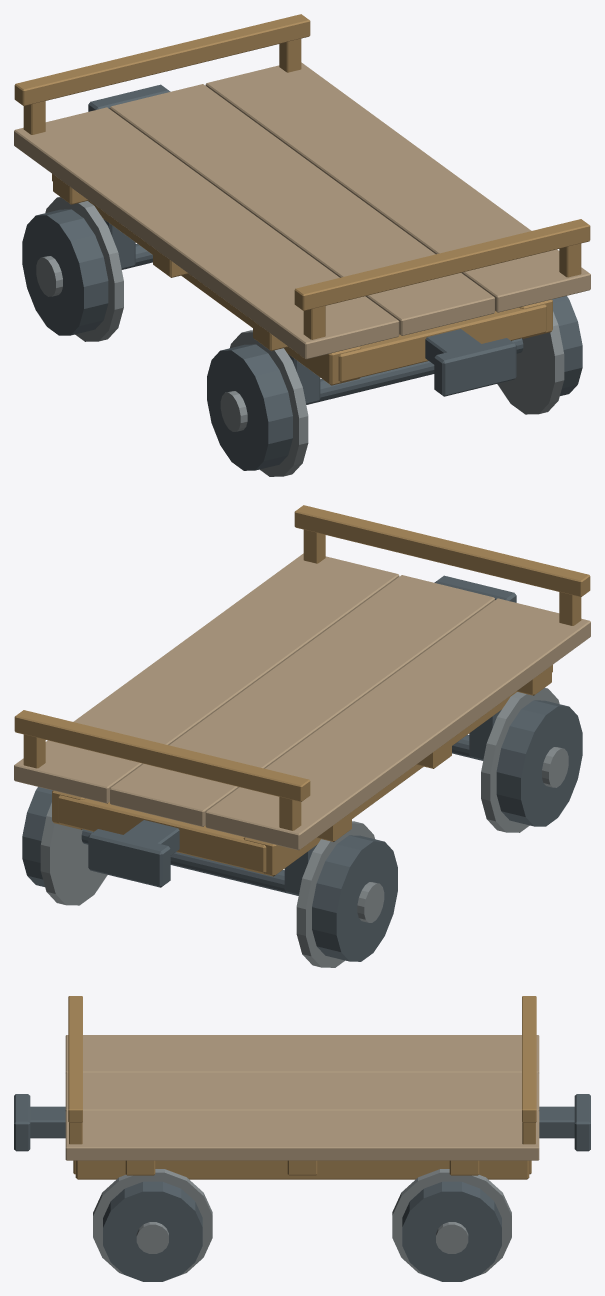
3 views of the same model, one above another, from view 1: azimuth 30°, elevation 25°; view 2: azimuth 150°, elevation 25°; view 3: azimuth 270°, elevation 25° (orthographic). The views are drawn at different scales.
Visible parts, largest first — view 1: Open freight deck plank, Open freight deck plank.001, Open freight deck plank.002, Flat steel tread.002, Flat steel tread, Low end restraint rail, Low end restraint rail.001, End underframe tie, Inner flange.001, Fixed coupling face, Inner flange.002, Inner flange (+13 smaller); view 2: Open freight deck plank, Open freight deck plank.001, Open freight deck plank.002, Flat steel tread, Flat steel tread.002, Low end restraint rail.001, Low end restraint rail, End underframe tie.001, Inner flange.003, Fixed coupling face.001, Inner flange, Inner flange.002 (+13 smaller); view 3: Open freight deck plank.002, Open freight deck plank.001, Open freight deck plank, Flat steel tread.001, Flat steel tread.003, Longitudinal underframe.001, Inner flange.001, Inner flange.003, Low end restraint rail, Low end restraint rail.001, Static coupling shank, Static coupling shank.001 (+7 smaller).
Boxes of the visible parts, box(x1,y1,x2,y2) form: Open freight deck plank: box(14, 107, 399, 359); Open freight deck plank.001: box(110, 84, 494, 335); Open freight deck plank.002: box(205, 62, 590, 312); Flat steel tread.002: box(22, 209, 108, 335); Flat steel tread: box(207, 344, 292, 470); Low end restraint rail: box(294, 219, 590, 310); Low end restraint rail.001: box(14, 14, 310, 105); End underframe tie: box(338, 304, 546, 382); Inner flange.001: box(497, 311, 564, 414); Fixed coupling face: box(434, 338, 516, 396); Inner flange.002: box(45, 197, 123, 341); Inner flange: box(230, 330, 308, 476); Open freight deck plank: box(205, 598, 590, 850); Open freight deck plank.001: box(110, 575, 494, 826); Open freight deck plank.002: box(14, 553, 399, 803); Flat steel tread: box(496, 700, 582, 826); Flat steel tread.002: box(312, 835, 397, 961); Low end restraint rail.001: box(14, 710, 310, 801); Low end restraint rail: box(294, 505, 590, 596); End underframe tie.001: box(58, 795, 266, 873); Inner flange.003: box(40, 802, 107, 905); Fixed coupling face.001: box(88, 829, 170, 887); Inner flange: box(481, 688, 559, 832); Inner flange.002: box(296, 821, 374, 967); Open freight deck plank.002: box(65, 1110, 539, 1160); Open freight deck plank.001: box(65, 1072, 539, 1110); Open freight deck plank: box(65, 1035, 539, 1073); Flat steel tread.001: box(103, 1181, 202, 1281); Flat steel tread.003: box(402, 1181, 501, 1281); Longitudinal underframe.001: box(75, 1160, 529, 1179); Inner flange.001: box(93, 1169, 212, 1274); Inner flange.003: box(392, 1169, 511, 1274); Low end restraint rail: box(68, 996, 82, 1122); Low end restraint rail.001: box(522, 996, 536, 1122); Static coupling shank: box(30, 1106, 65, 1138); Static coupling shank.001: box(539, 1106, 574, 1138).
Bounding box in the file's own units: 1.23 × 0.78 × 2.32.
